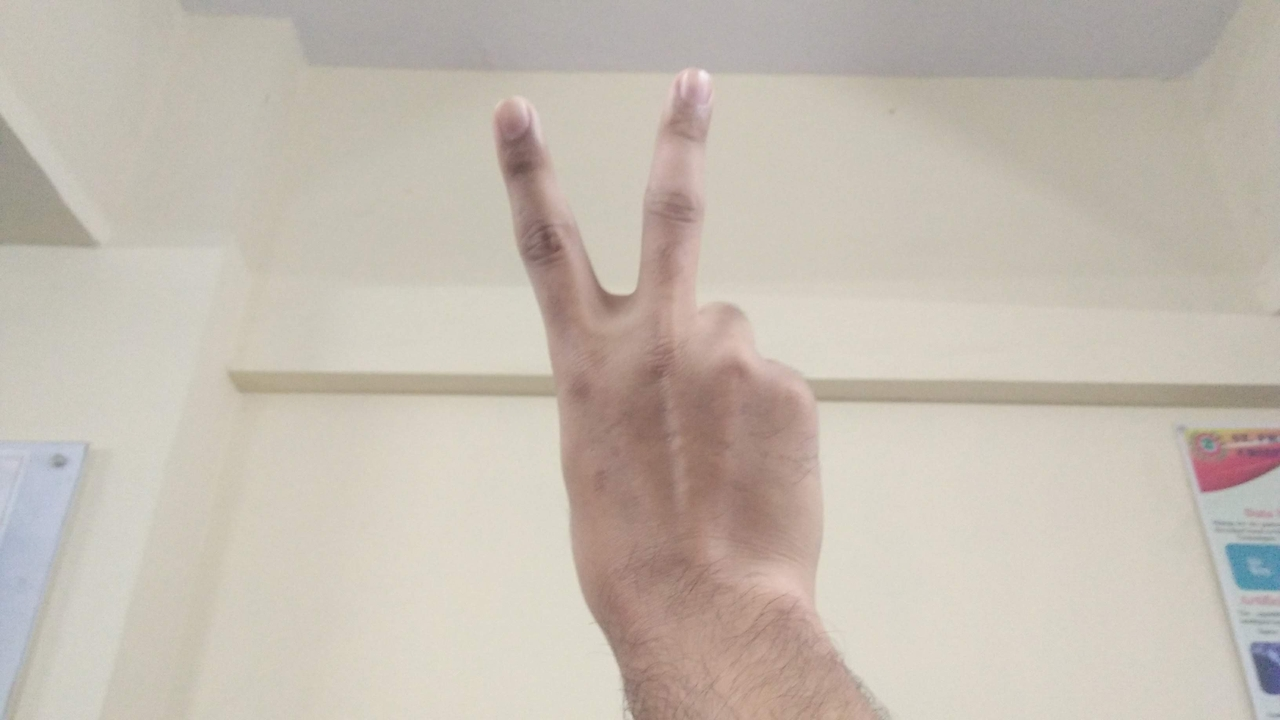fingertip: (662, 58, 722, 114), (486, 92, 544, 148)
